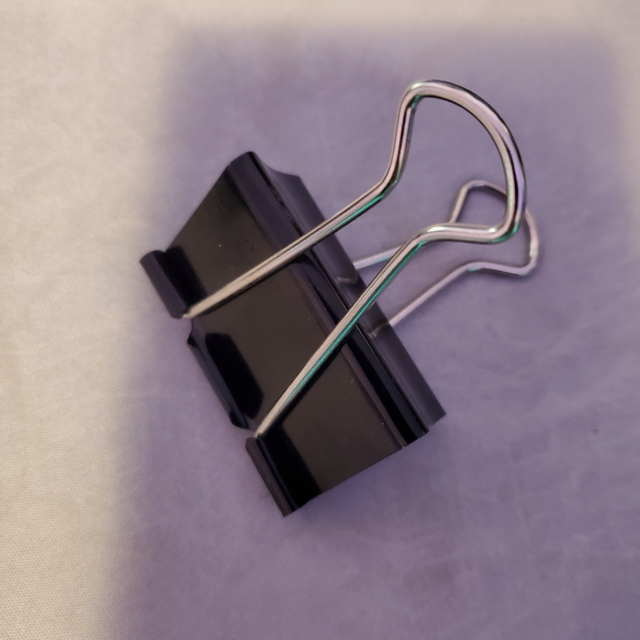clip: (136, 76, 550, 519)
